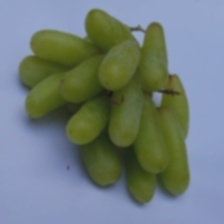grapes: (60, 58, 197, 208)
